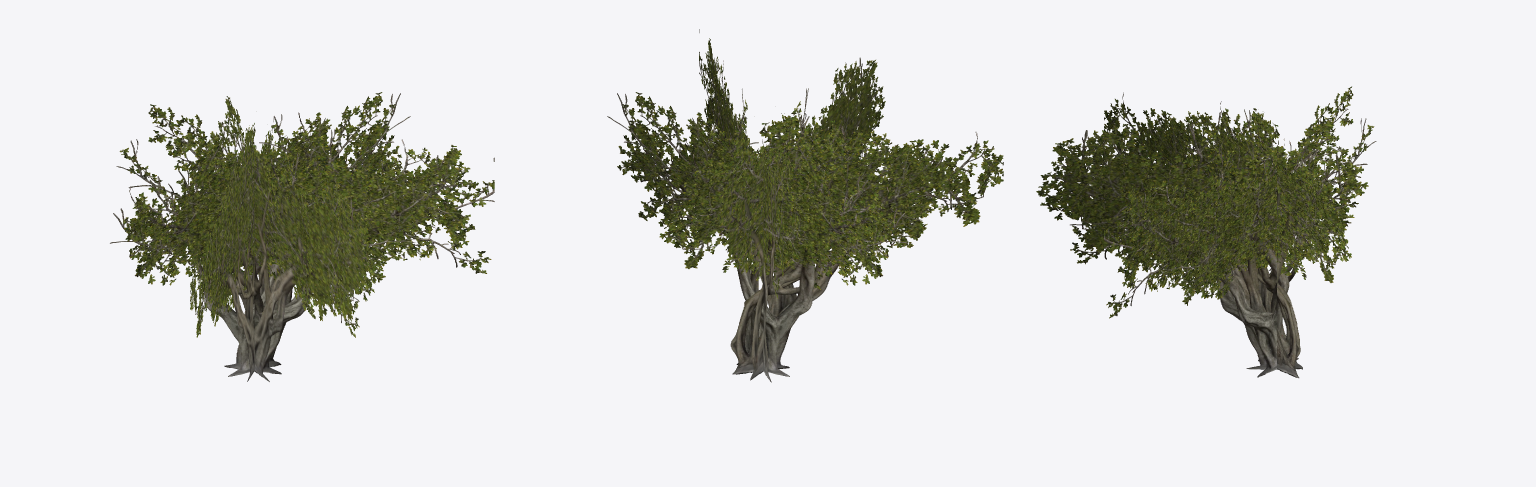
The model's file is tree_olive_lod0.glb.
3 views of the same model, side by side, from view 1: azimuth 30°, elevation 25°; view 2: azimuth 150°, elevation 25°; view 3: azimuth 270°, elevation 25° (orthographic).
Parts seen in each view (by area): view 1: tree_olive; view 2: tree_olive; view 3: tree_olive.
Part boxes in pixels (box(x1,y1,x2,y2)): tree_olive: box(110, 92, 494, 381); tree_olive: box(607, 29, 1003, 382); tree_olive: box(1036, 86, 1376, 378).
Size of the model in its own units: 5.99 by 3.41 by 5.99.
1 material, 1 textured.
